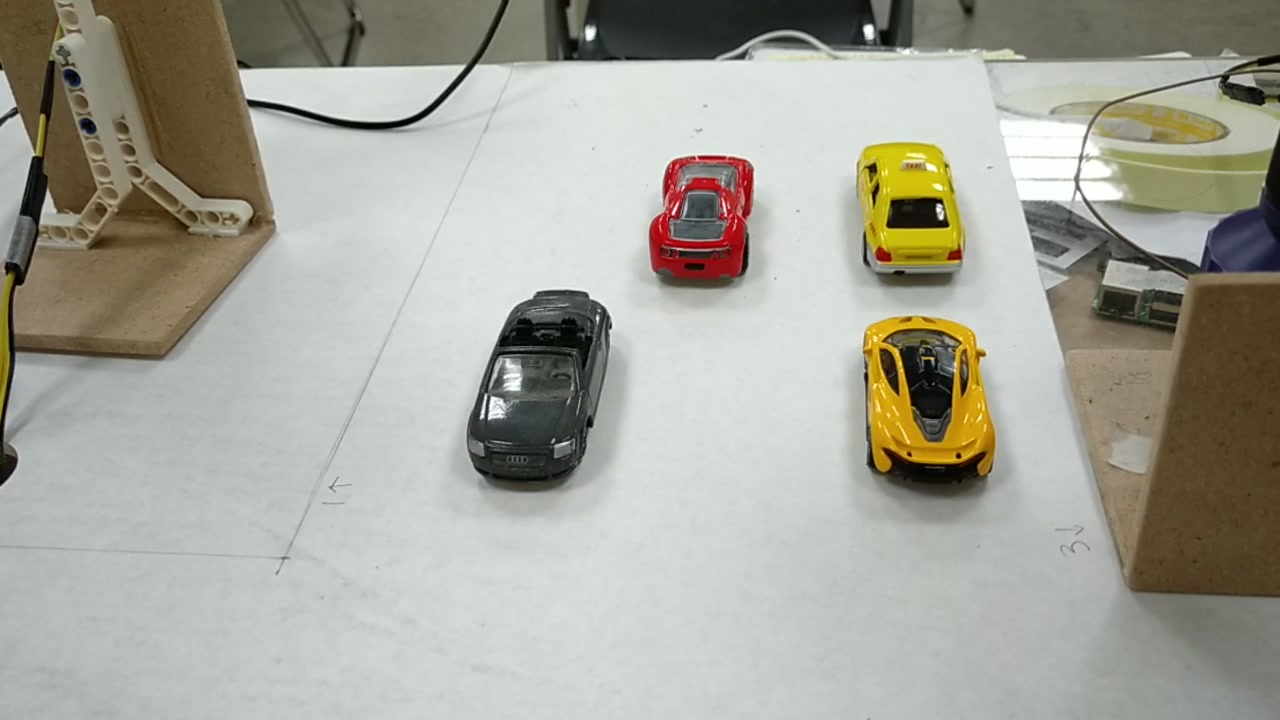car: (469, 290, 612, 485), (866, 312, 995, 480), (857, 140, 965, 271), (649, 153, 757, 271)
